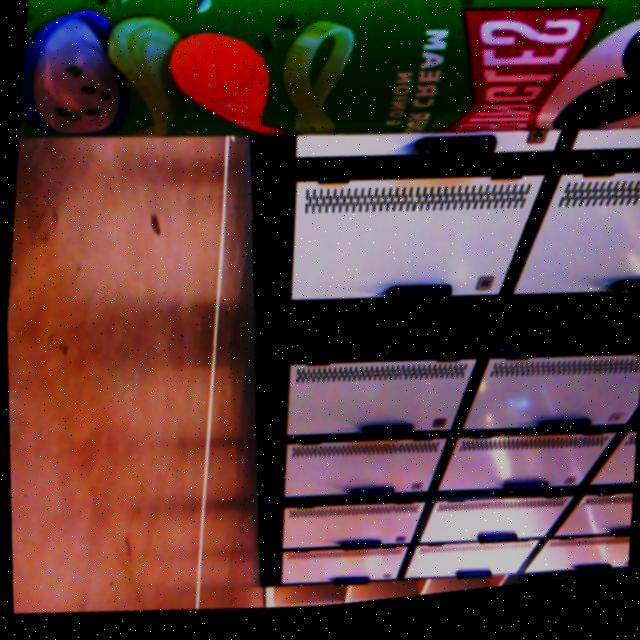greenpringles: (12, 0, 640, 222)
